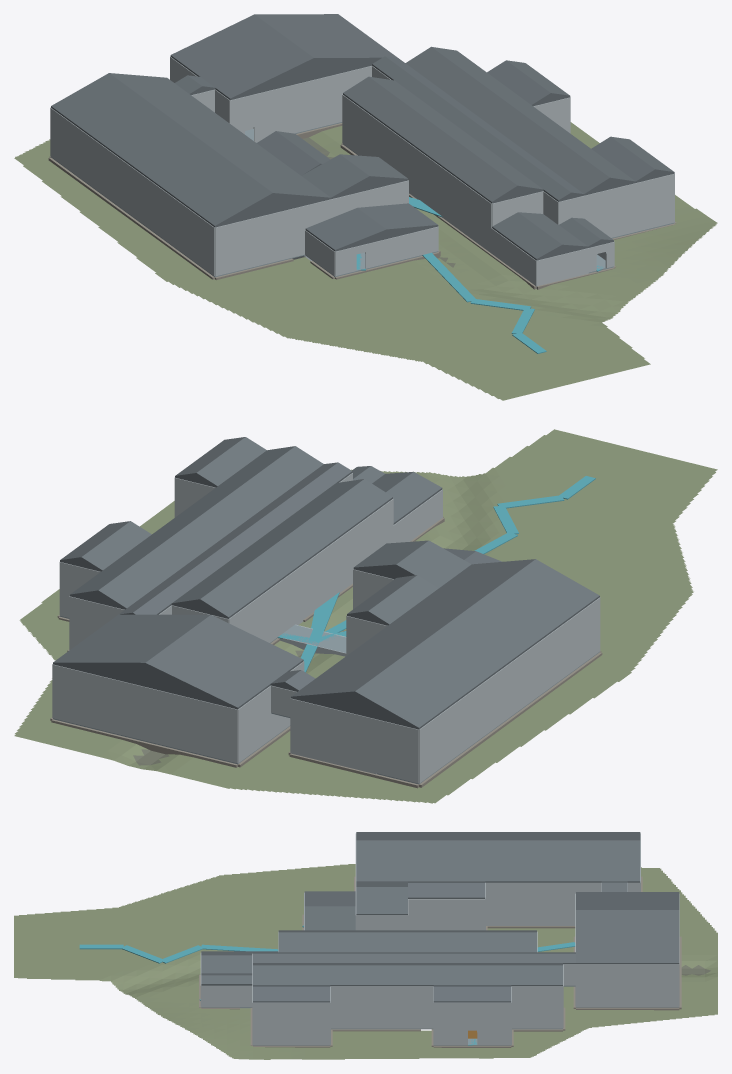
File: enclosed-roofs.glb
The picture shows the model from 3 angles, top to bottom: view 1: azimuth 30°, elevation 25°; view 2: azimuth 150°, elevation 25°; view 3: azimuth 270°, elevation 25°; orthographic projection. The views are drawn at different scales.
Visible parts, largest first — view 1: Saved editor macroterrain COLLEGE, teaching-and-lecture roof west, east-residence-and-service roof west, teaching-and-lecture roof east, library roof west, west-residence roof west, Wall lecture S, library roof east, Wall lecture W, east-residence-and-service roof east, residence-spine roof west, west-residence roof east (+40 smaller); view 2: Saved editor macroterrain COLLEGE, teaching-and-lecture roof west, east-residence-and-service roof west, teaching-and-lecture roof east, library roof west, west-residence roof west, library roof east, Wall lecture W, east-residence-and-service roof east, residence-spine roof west, west-residence roof east, Wall project N (+45 smaller); view 3: Saved editor macroterrain COLLEGE, teaching-and-lecture roof east, east-residence-and-service roof east, library roof east, west-residence roof east, teaching-and-lecture roof west, residence-spine roof east, Flat route shell Wall upper-teaching E.001, Flat route shell Wall teaching-hall E, library roof west, Wall upper-reading E, Wall upper-north-stair E (+30 smaller).
Boxes of the visible parts, x1,y1,x2,y2 form: Saved editor macroterrain COLLEGE: (14, 122, 717, 400); teaching-and-lecture roof west: (51, 73, 272, 227); east-residence-and-service roof west: (405, 47, 609, 194); teaching-and-lecture roof east: (109, 73, 330, 198); library roof west: (170, 14, 313, 99); west-residence roof west: (343, 76, 517, 202); Wall lecture S: (215, 205, 305, 276); library roof east: (255, 14, 397, 59); Wall lecture W: (140, 173, 214, 276); east-residence-and-service roof east: (432, 47, 635, 182); residence-spine roof west: (424, 94, 571, 201); west-residence roof east: (369, 76, 543, 190); Saved editor macroterrain COLLEGE: (14, 429, 717, 803); teaching-and-lecture roof west: (355, 559, 599, 729); east-residence-and-service roof west: (98, 446, 323, 609); teaching-and-lecture roof east: (291, 559, 535, 698); library roof west: (145, 615, 303, 708); west-residence roof west: (200, 479, 392, 618); library roof east: (53, 614, 210, 664); Wall lecture W: (518, 597, 600, 710); east-residence-and-service roof east: (70, 446, 294, 595); residence-spine roof west: (190, 462, 352, 579); west-residence roof east: (171, 479, 363, 604); Wall project N: (319, 705, 418, 756); Saved editor macroterrain COLLEGE: (14, 864, 717, 1059); teaching-and-lecture roof east: (356, 840, 640, 882); east-residence-and-service roof east: (253, 965, 562, 986); library roof east: (576, 910, 679, 964); west-residence roof east: (278, 932, 536, 952); teaching-and-lecture roof west: (356, 832, 640, 840); residence-spine roof east: (253, 953, 485, 962); Flat route shell Wall upper-teaching E.001: (486, 882, 601, 903); Flat route shell Wall teaching-hall E: (486, 904, 575, 924); library roof west: (576, 892, 679, 909); Wall upper-reading E: (601, 964, 679, 985); Wall upper-north-stair E: (433, 1002, 511, 1023).
Bounding box in the file's own units: 73 × 13.6 × 109.
